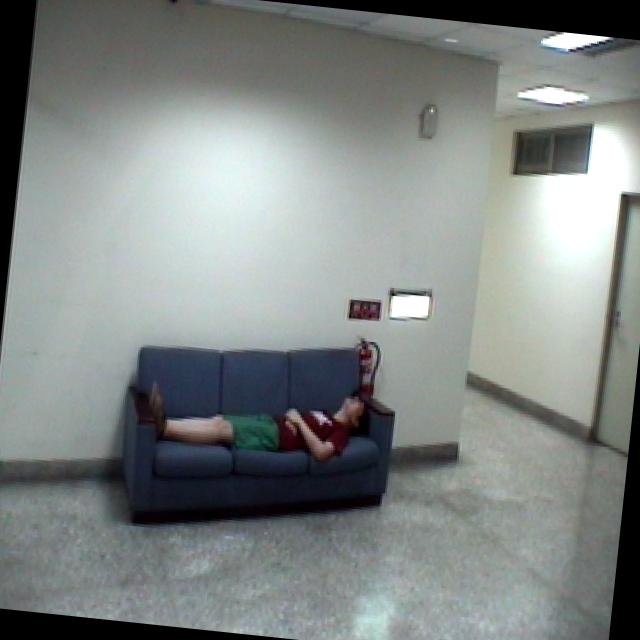lie: (140, 358, 376, 478)
